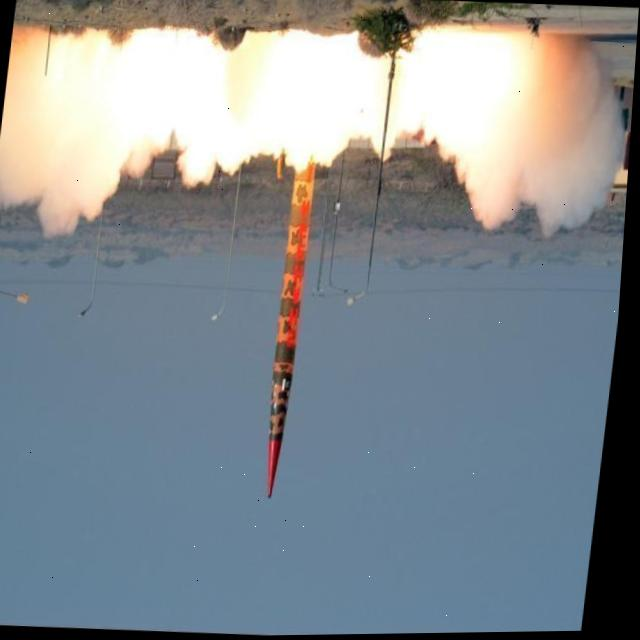missile: (266, 142, 324, 498)
